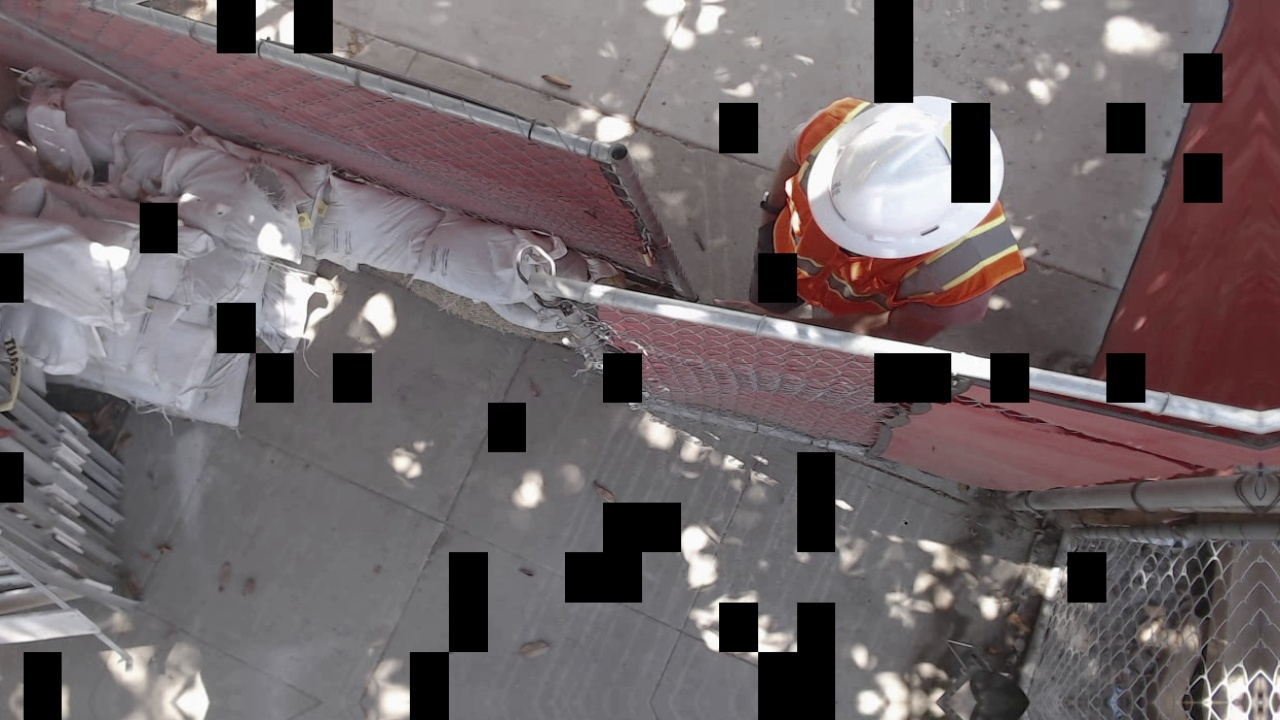hardhat: (806, 93, 1004, 260)
person: (746, 90, 1050, 301)
safetyvest: (771, 95, 1027, 316)
